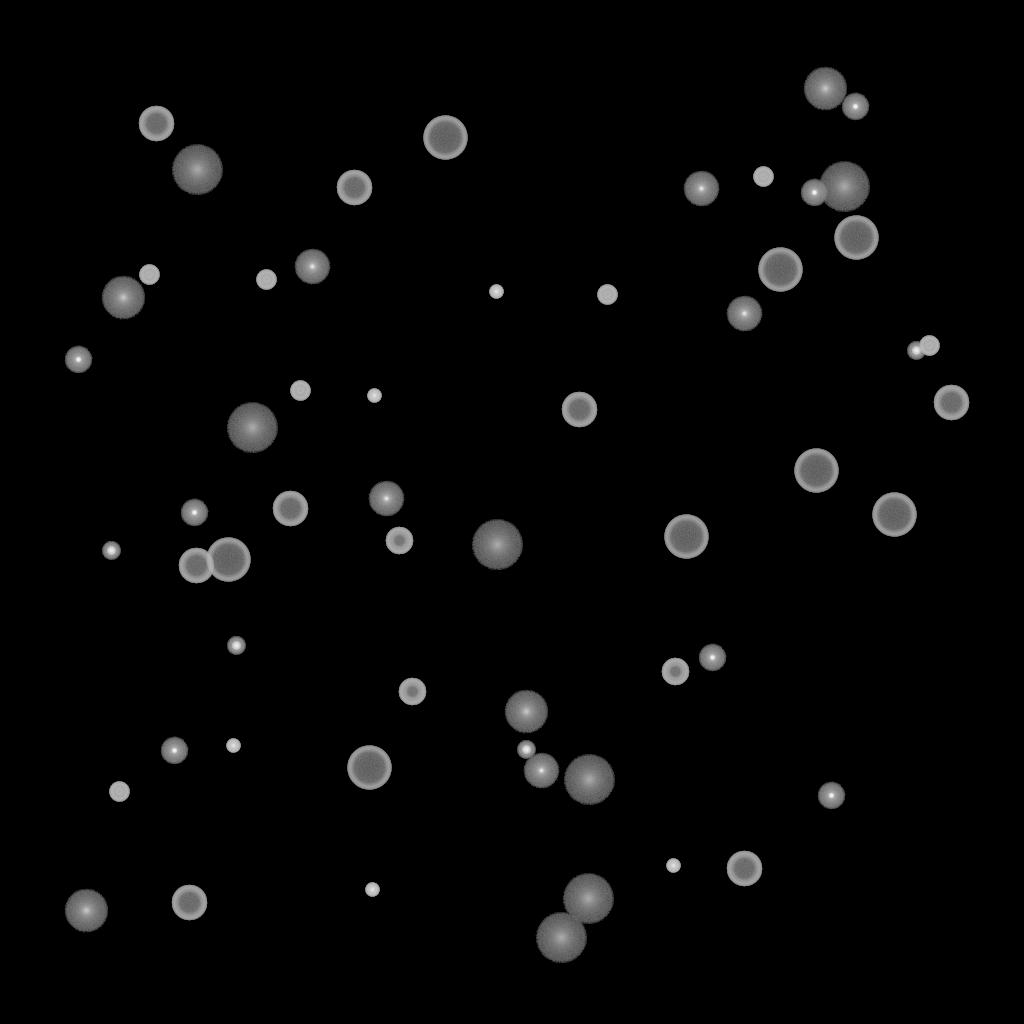depth:-10: (841, 93, 869, 121), (817, 782, 845, 810), (698, 644, 726, 672), (180, 499, 208, 527), (64, 346, 92, 374), (800, 179, 828, 207), (160, 737, 188, 765)
depth:-20: (227, 637, 245, 655), (517, 741, 535, 759), (907, 342, 925, 360), (102, 542, 120, 560)
depth:-30: (489, 285, 503, 299), (367, 389, 381, 403), (666, 859, 680, 873), (226, 739, 240, 753), (365, 883, 379, 897)
depth:-40: (290, 381, 310, 401), (919, 336, 939, 356), (109, 782, 129, 802), (256, 270, 276, 290), (753, 167, 773, 187), (597, 285, 617, 305), (139, 265, 159, 285)
depth:-50: (398, 678, 426, 706), (661, 658, 689, 686), (385, 527, 413, 555)
depth:-60: (561, 392, 597, 428), (178, 548, 214, 584), (933, 385, 969, 421), (138, 106, 174, 142), (336, 170, 372, 206), (171, 885, 207, 921), (272, 491, 308, 527), (726, 851, 762, 887)
depth:-70: (872, 493, 916, 537), (794, 449, 838, 493), (347, 746, 391, 790), (206, 538, 250, 582), (834, 216, 878, 260), (423, 116, 467, 160), (758, 248, 802, 292), (664, 515, 708, 559)
depth:0: (368, 481, 404, 517), (523, 753, 559, 789), (726, 296, 762, 332), (683, 171, 719, 207), (294, 249, 330, 285)
depth:10: (64, 889, 108, 933), (504, 690, 548, 734), (803, 67, 847, 111), (101, 276, 145, 320)
depth:20: (563, 755, 615, 805), (171, 145, 223, 195), (471, 520, 523, 570), (562, 874, 614, 924), (226, 403, 278, 453), (818, 162, 870, 212), (535, 913, 587, 963)
